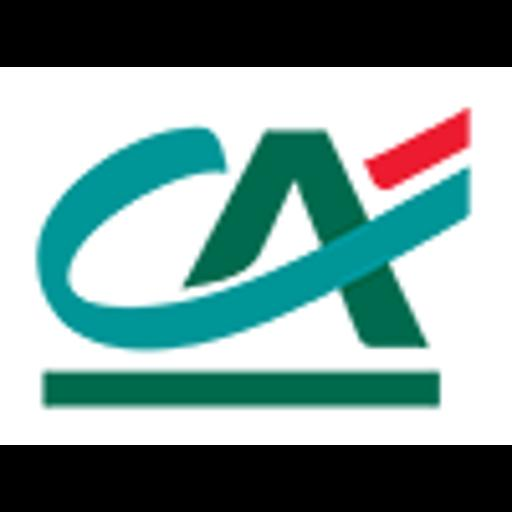Credit Agricole S-A: (0, 67, 512, 445)
